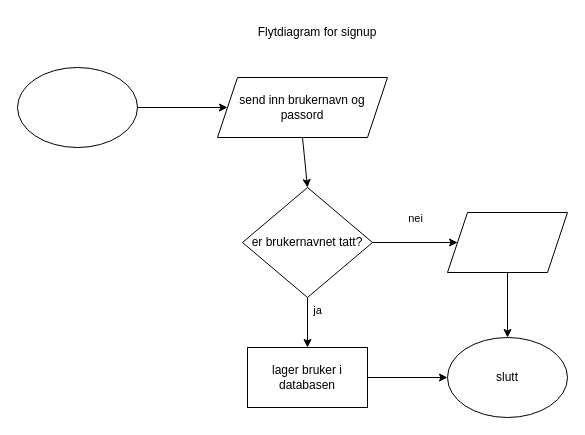
The diagram is 585 pixels wide and 435 high, and some of its shapes have lost their labels. The box of each missing label's shape, as (x1, y1, x2, y2) in pixels:
lag en bruker: (16, 66, 138, 148)
output: error fra mariaDB: (446, 212, 568, 272)
